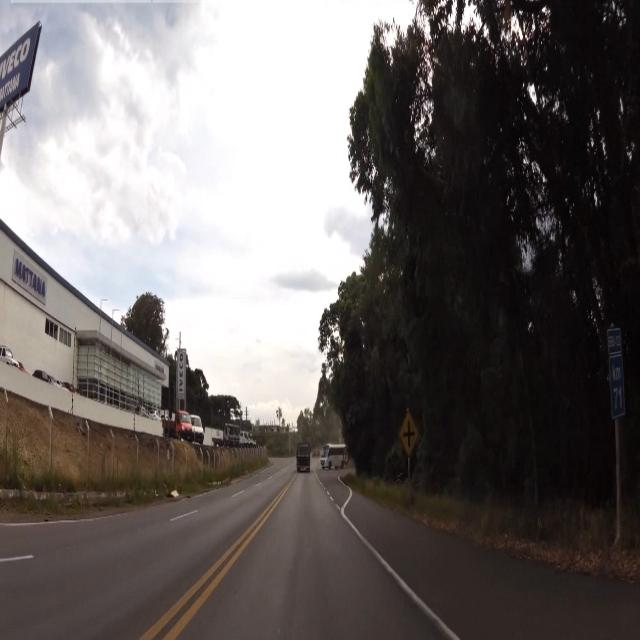A-6: (400, 412, 419, 457)
